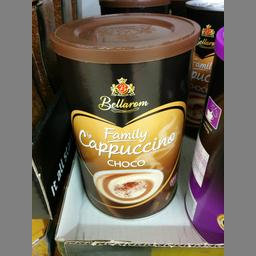coffee: (48, 9, 200, 217)
